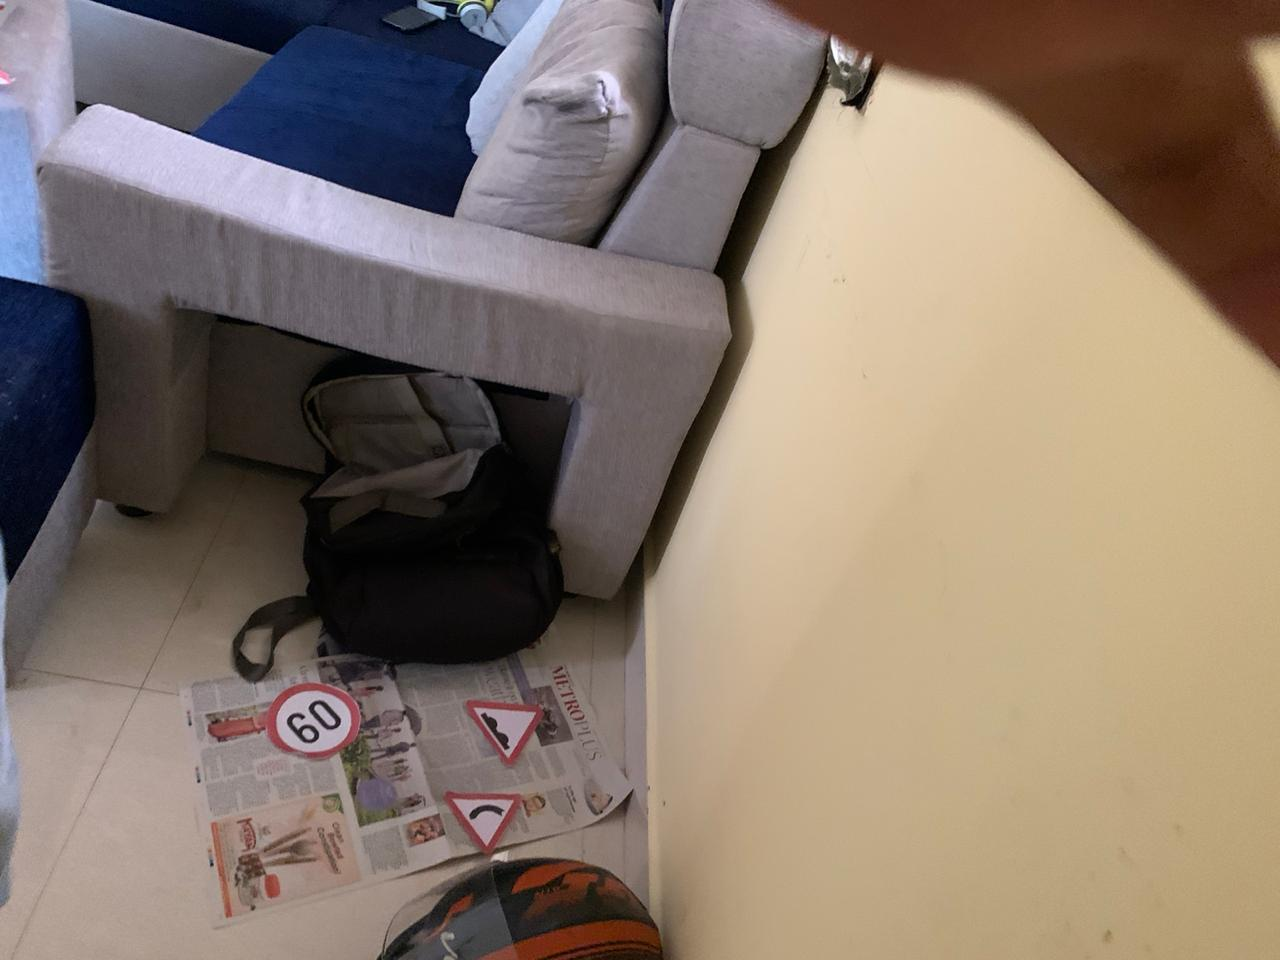LEFT CURVE: (432, 774, 536, 860)
SPEED LIMIT (60 KM/H): (259, 688, 362, 761)
UNEVEN ROAD: (462, 689, 539, 763)
